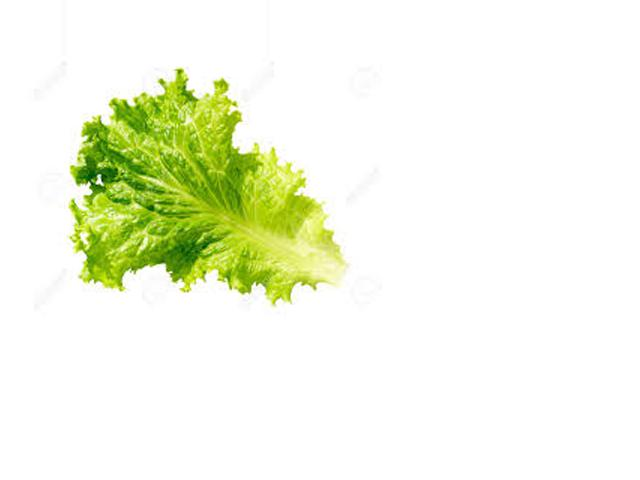lettuce: (67, 72, 348, 290)
